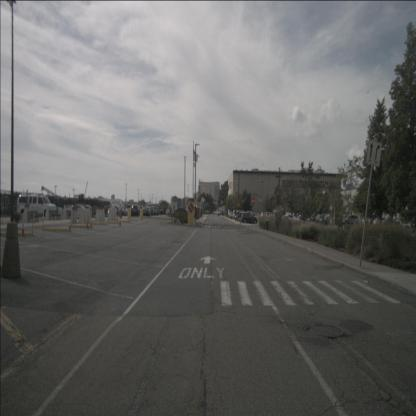cone: (20, 220, 26, 236), (85, 215, 90, 228), (68, 219, 72, 232), (118, 217, 122, 226), (90, 216, 93, 228), (160, 215, 163, 225), (116, 213, 118, 222)
